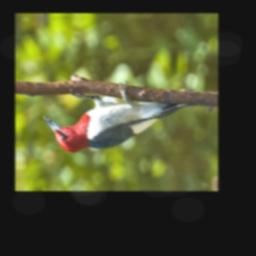Woodpecker: (44, 79, 195, 155)
